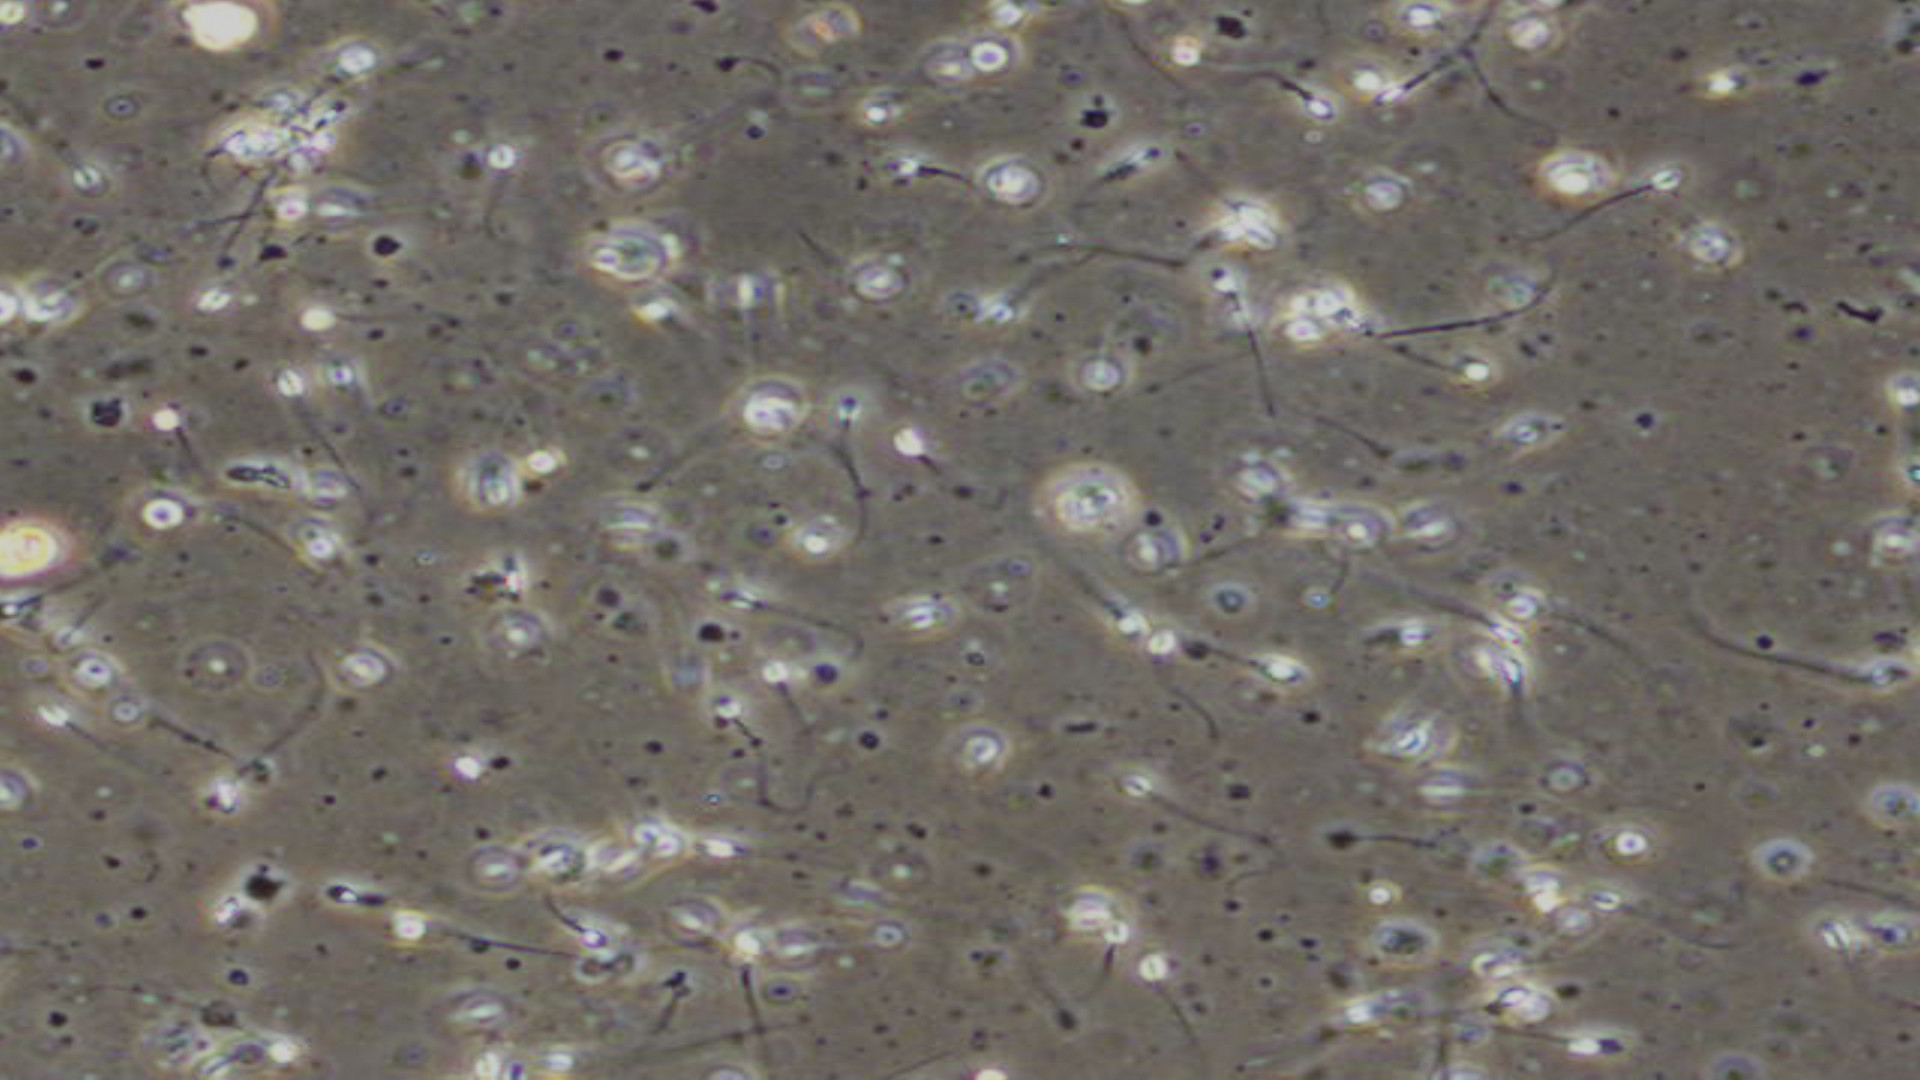sperm: (1203, 270, 1303, 414), (819, 382, 893, 521), (378, 909, 535, 968), (1114, 774, 1238, 845), (713, 692, 785, 814), (257, 361, 345, 459), (40, 700, 142, 779), (761, 655, 843, 754), (1402, 582, 1518, 649), (146, 393, 218, 500), (1753, 651, 1902, 698), (1586, 175, 1692, 239), (971, 264, 1067, 331), (717, 591, 827, 647), (887, 421, 971, 495), (1072, 918, 1139, 1006), (1356, 63, 1470, 113), (1487, 1018, 1622, 1059), (890, 154, 1007, 199), (1067, 574, 1139, 645), (1342, 305, 1470, 342), (1502, 661, 1553, 746), (1393, 348, 1502, 388), (1254, 78, 1349, 120), (1215, 642, 1302, 684), (556, 899, 621, 953), (310, 88, 360, 138)
